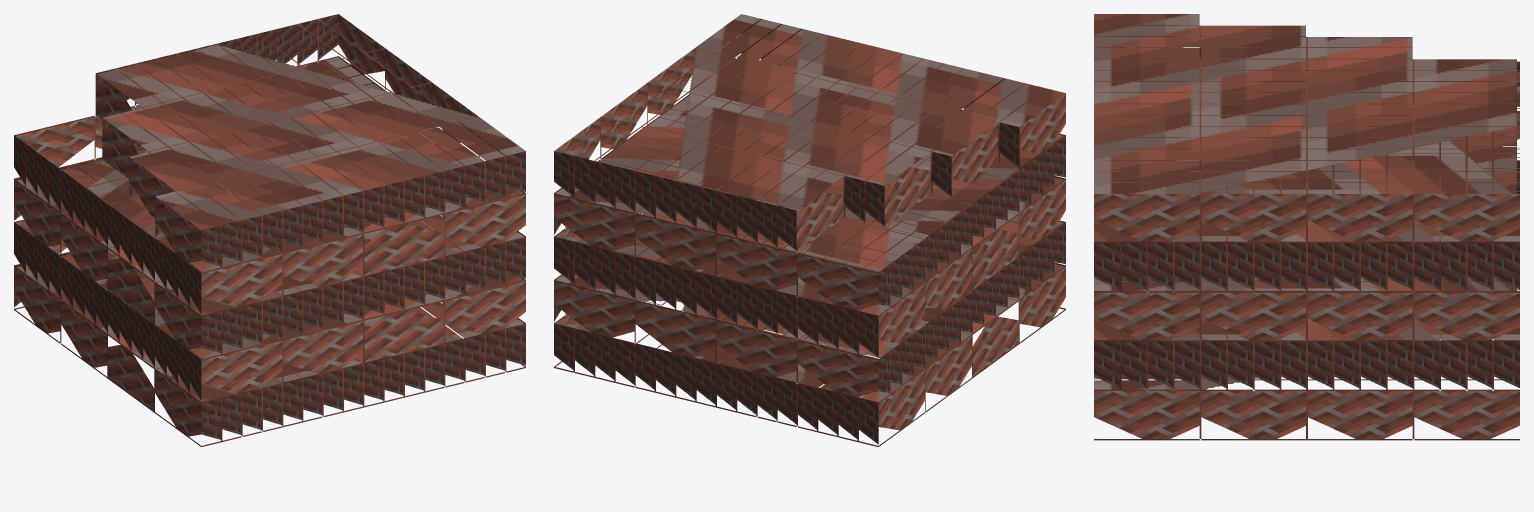
Rendered from Tugla.fbx.
3 views of the same model, side by side, from view 1: azimuth 30°, elevation 25°; view 2: azimuth 150°, elevation 25°; view 3: azimuth 270°, elevation 25° (orthographic). The views are drawn at different scales.
Parts seen in each view (by area): view 1: Cube.001; view 2: Cube.001; view 3: Cube.001.
Part boxes in pixels (x1,y1,x2,y2): Cube.001: (14,14,525,446); Cube.001: (554,14,1065,446); Cube.001: (1094,14,1519,440).
Size of the model in its own units: 100 by 78.8 by 100.
